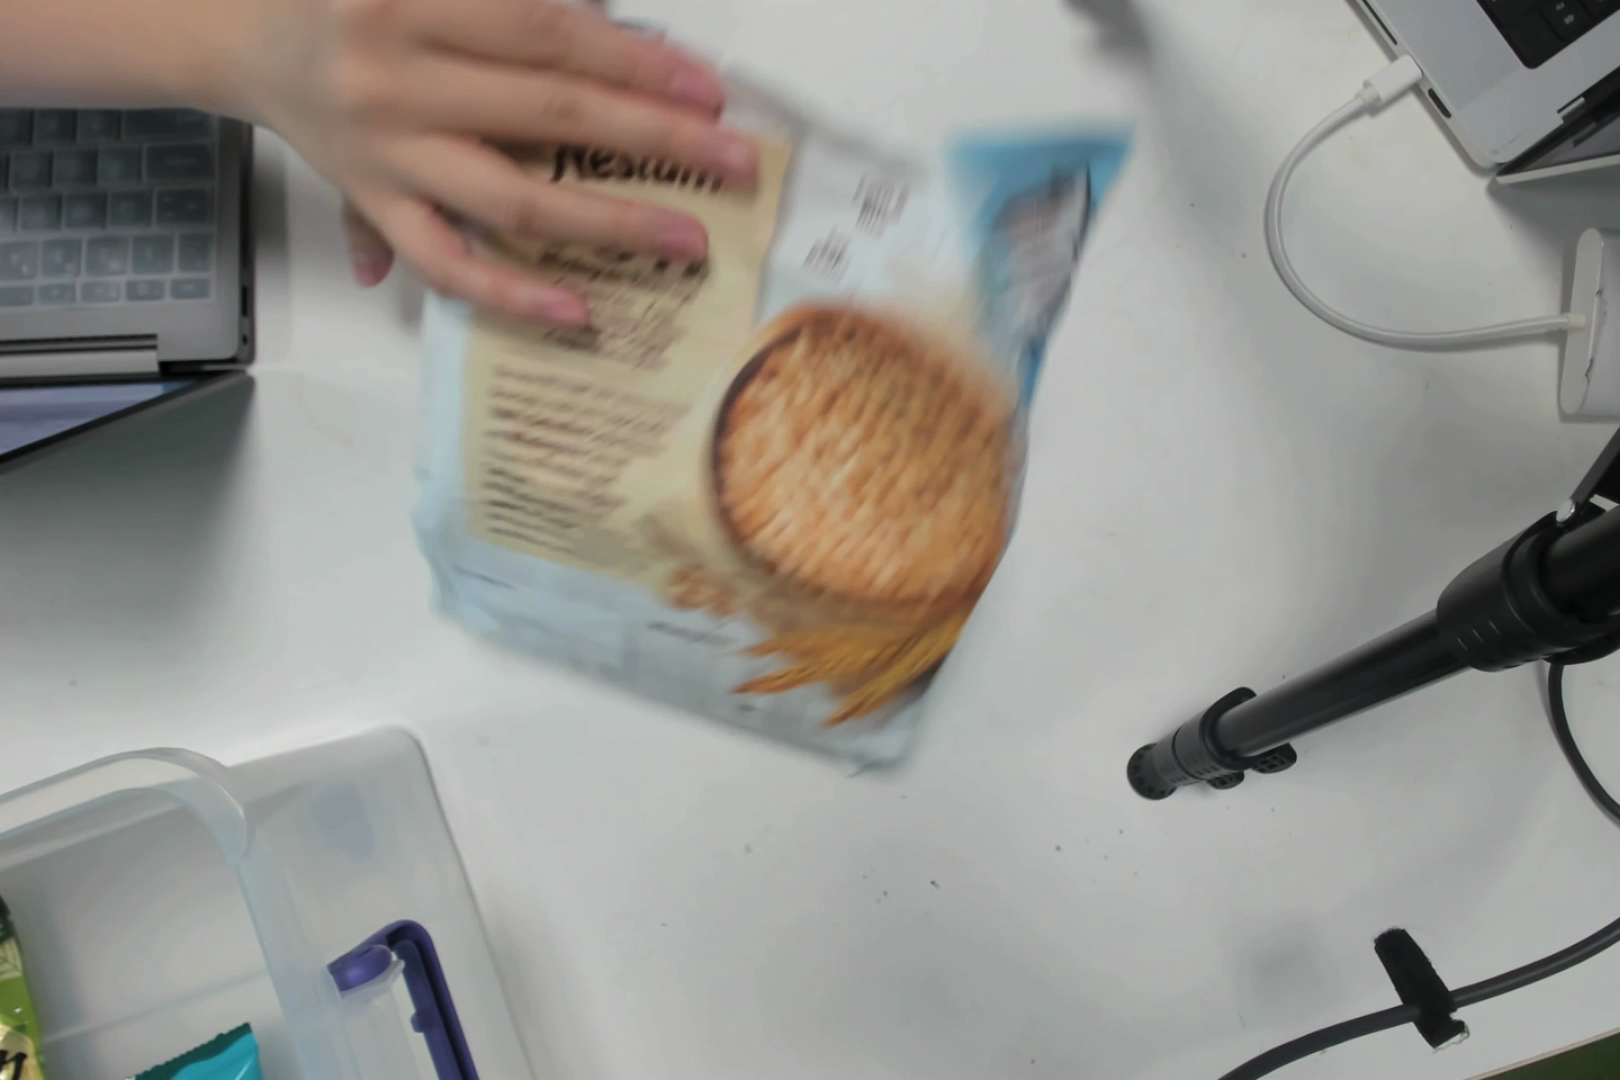e: (522, 35, 1010, 745)
